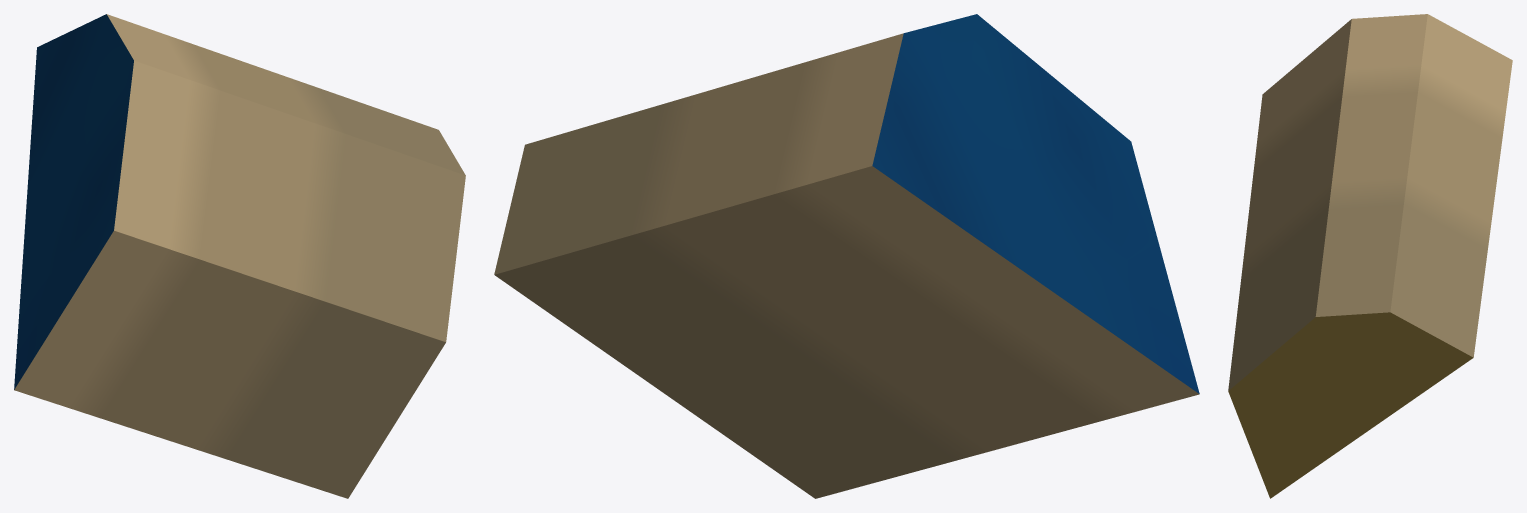
The model's file is 0626_Brunei.glb.
3 renders of one model, left to right at view 1: azimuth 30°, elevation 25°; view 2: azimuth 150°, elevation 25°; view 3: azimuth 270°, elevation 25°, orthographic. The views are drawn at different scales.
Parts seen in each view (by area): view 1: part_0; view 2: part_0; view 3: part_0.
Part boxes in pixels (x1,y1,x2,y2): part_0: [14, 14, 465, 498]; part_0: [494, 14, 1199, 498]; part_0: [1228, 14, 1512, 498].
Bounding box in the file's own units: 0.2647 × 0.2463 × 0.1525.
1 material, 1 textured.
